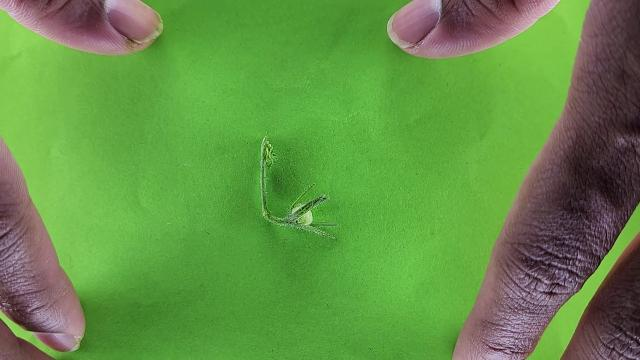Fruit Bud: (289, 185, 329, 225)
